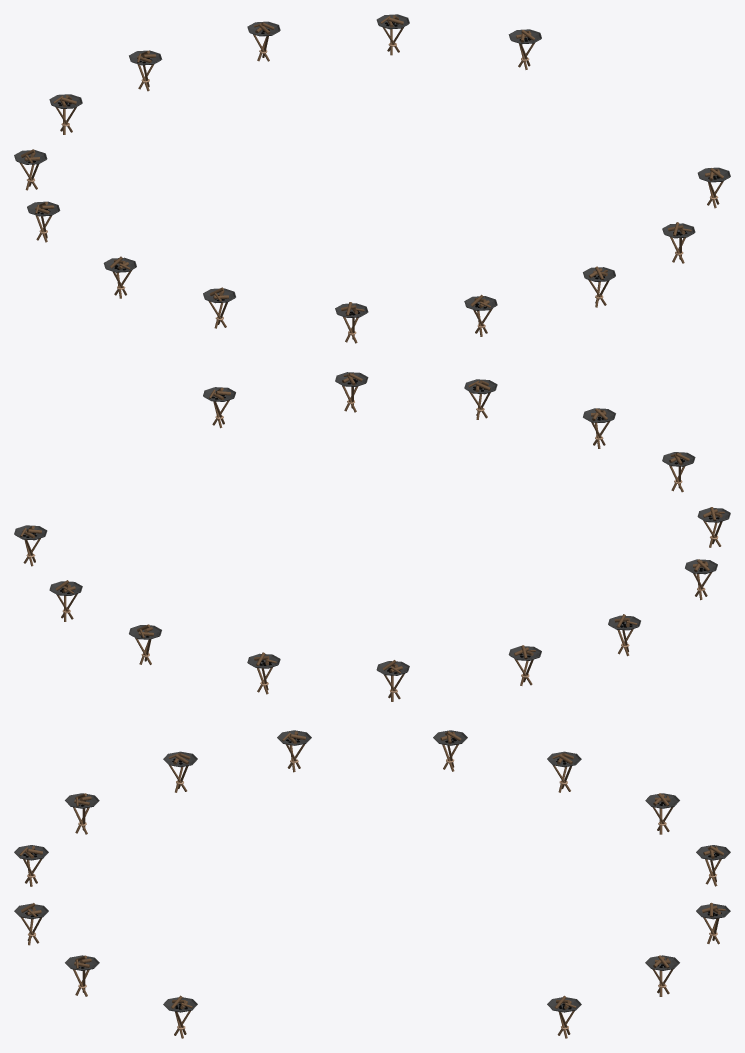
Rendered from Calderos.fbx.
3 views of the same model, one above another, from view 1: azimuth 30°, elevation 25°; view 2: azimuth 150°, elevation 25°; view 3: azimuth 270°, elevation 25° (orthographic).
Size of the model in its own units: 1619 by 106 by 1742.
